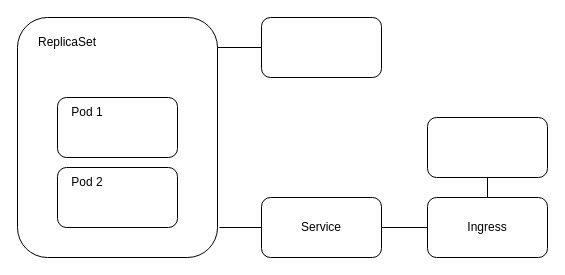
Image size: 565x275. Some labels were removed from this diagram. The centre of each missing label's shape, as x and y in pixels:
ConfigMap: point (321, 47)
Secret: point (487, 147)
